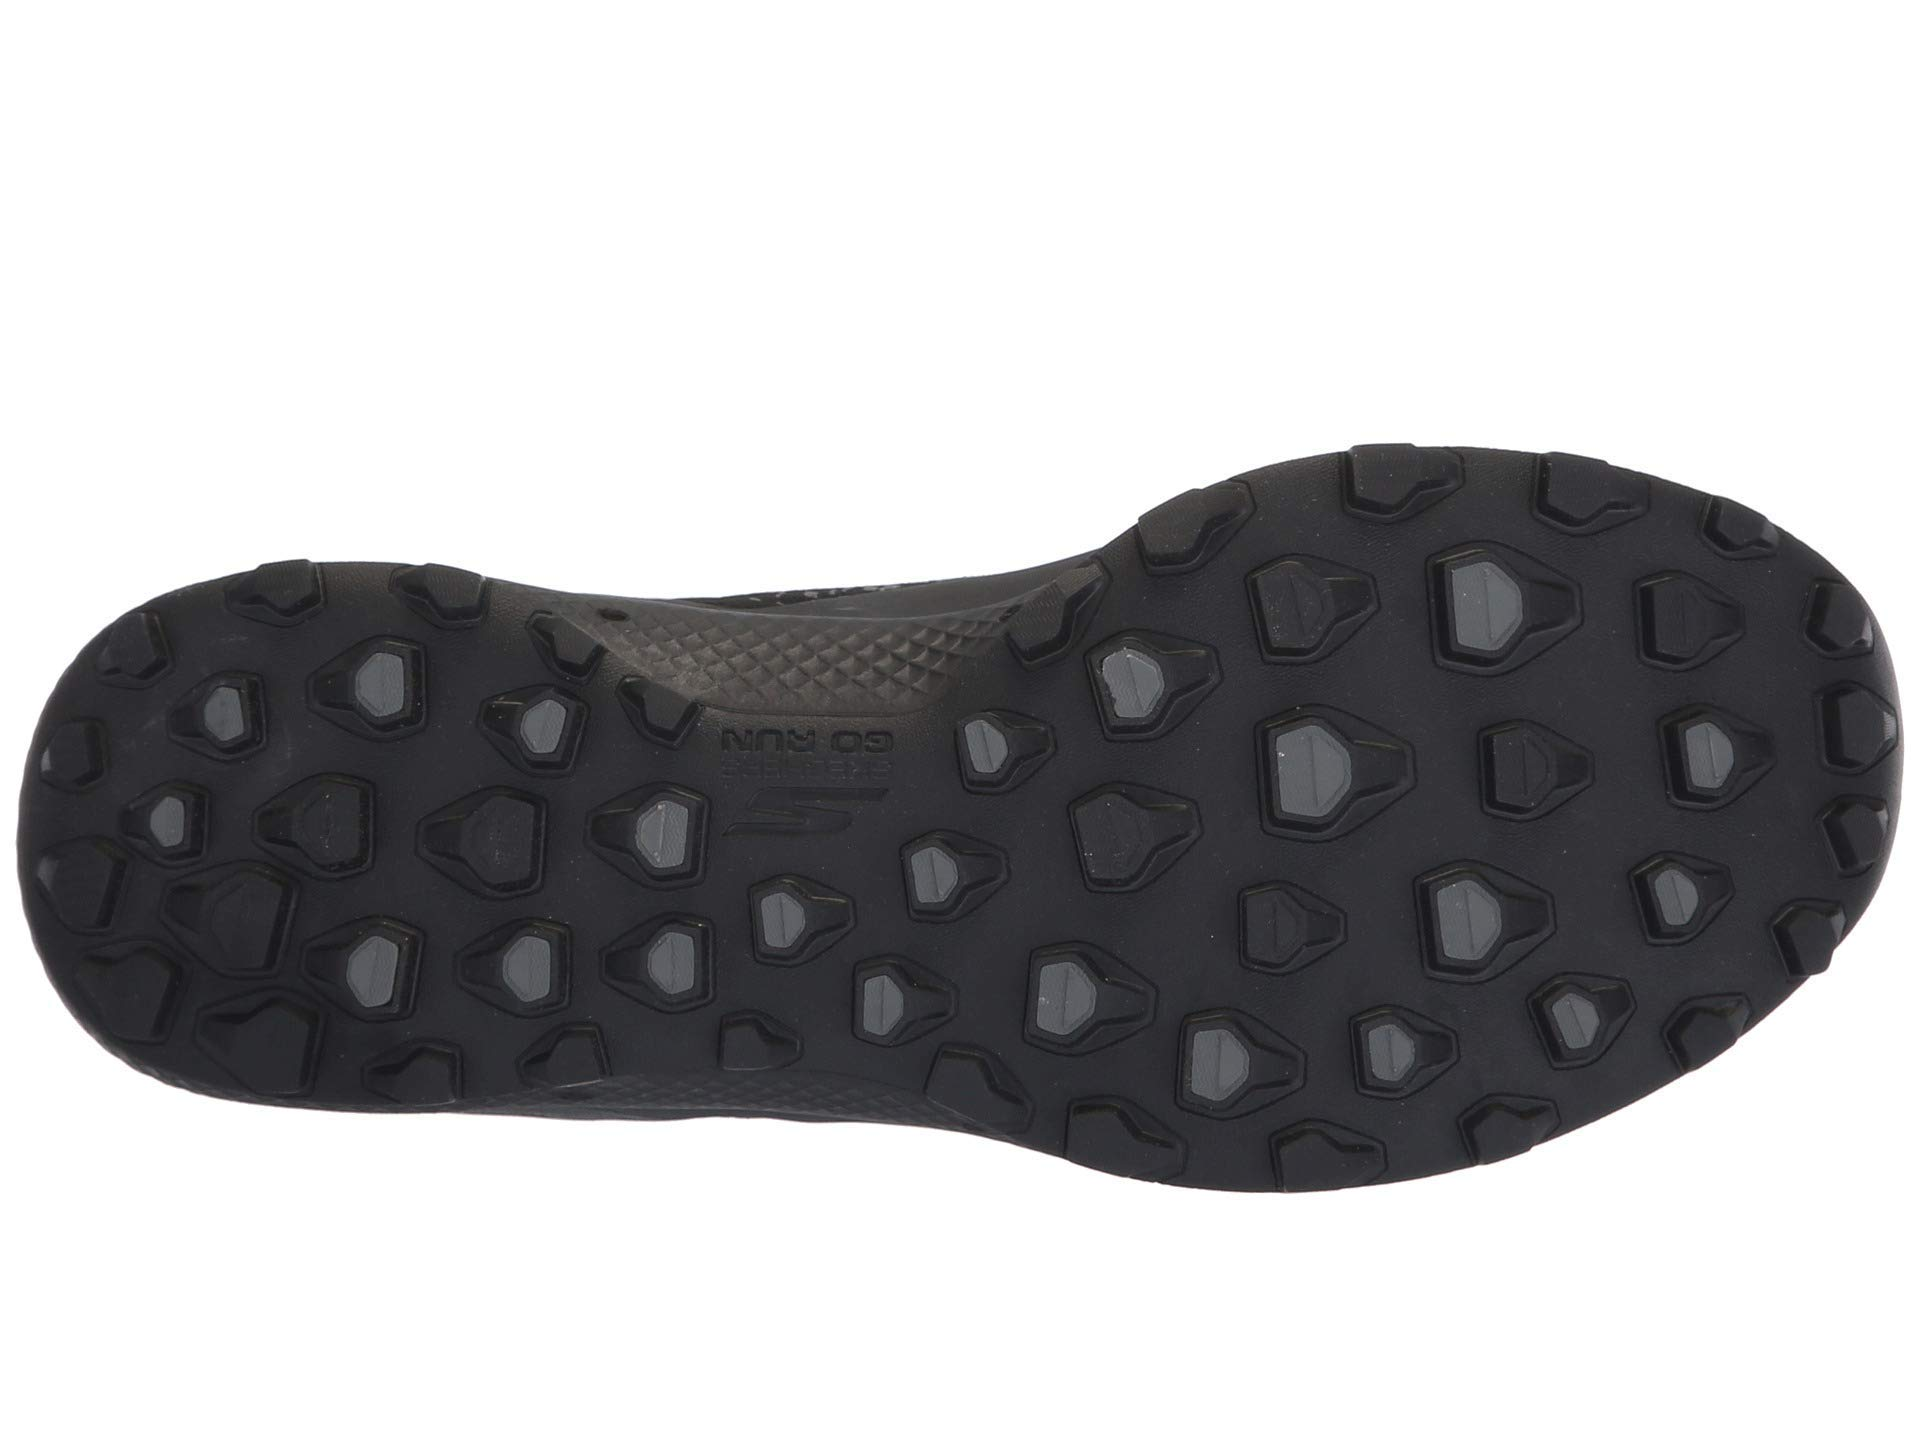line: (1203, 546, 1726, 1057)
polygon: (1203, 546, 1726, 1057), (186, 663, 582, 1057)
quad: (670, 708, 955, 858)
text: (670, 708, 955, 858)
